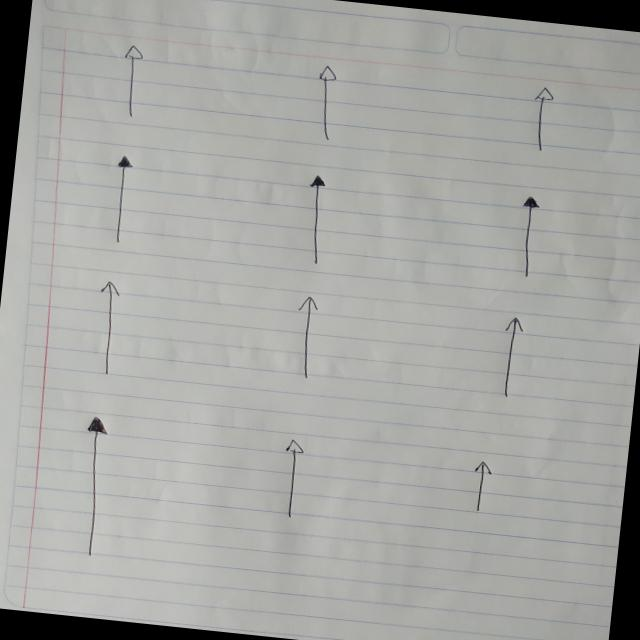arrow_line_up: (70, 414, 115, 558), (88, 278, 130, 378), (102, 153, 144, 249), (296, 172, 337, 267), (288, 294, 329, 381), (306, 63, 346, 145), (490, 314, 526, 402), (510, 191, 542, 282), (272, 436, 304, 524), (115, 44, 152, 120), (525, 84, 556, 154), (466, 460, 492, 518)
